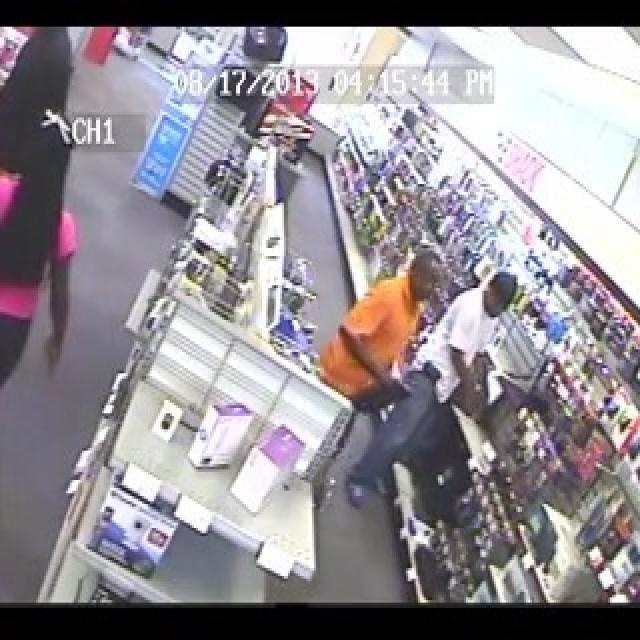Shoplifting: (442, 255, 542, 428)
